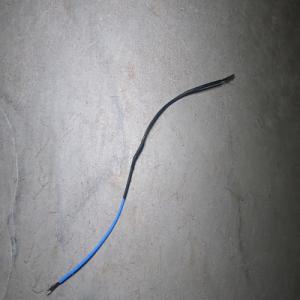Wire: (46, 72, 234, 295)
